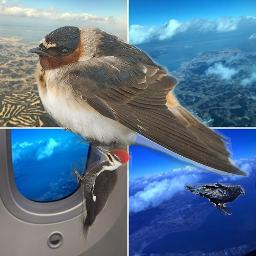Crow: (184, 183, 245, 215)
Swallow: (27, 25, 249, 177)
Woodpecker: (70, 146, 132, 247)
